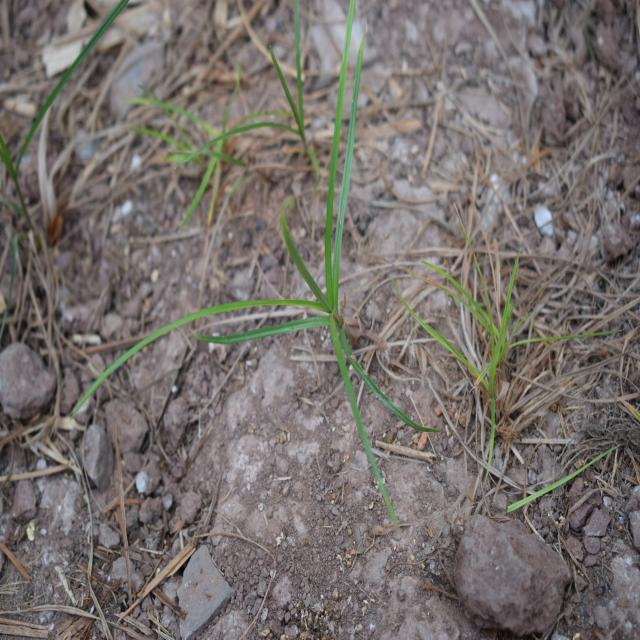sedge: (109, 110, 468, 528)
